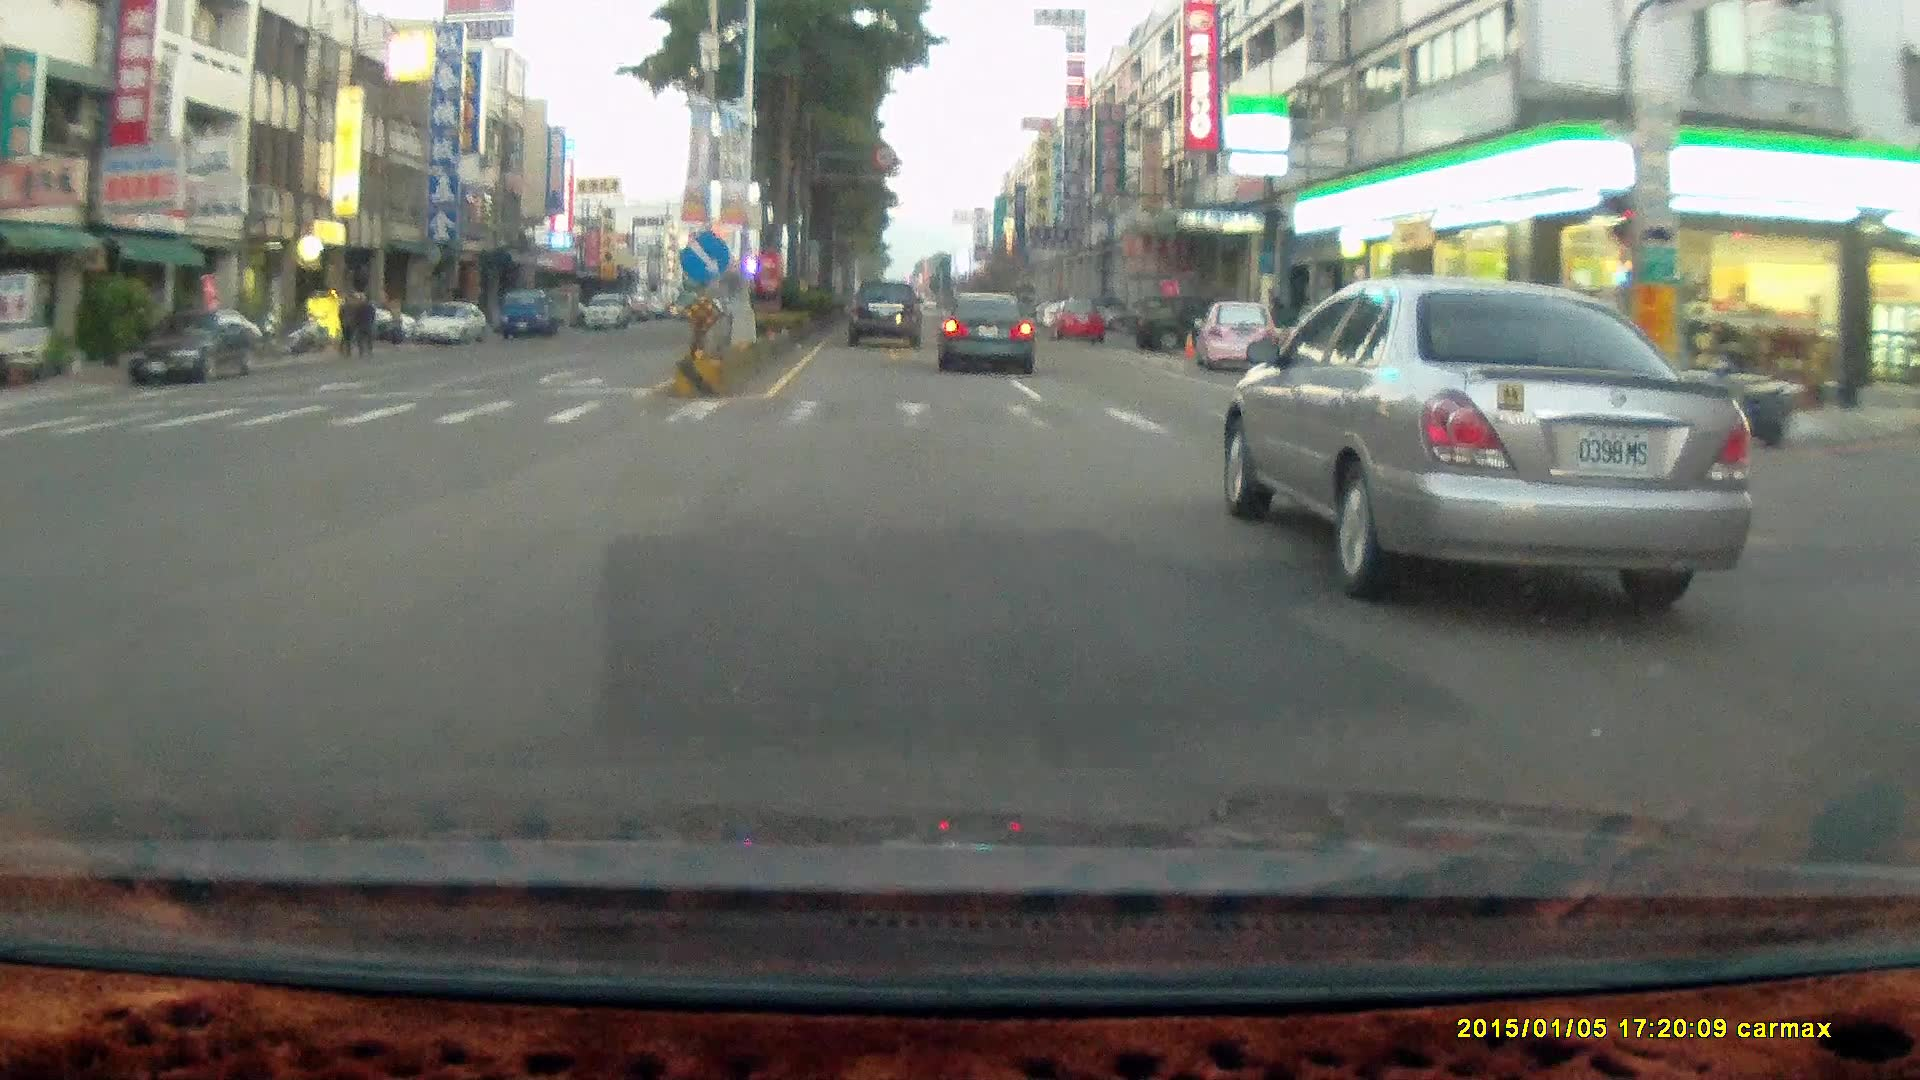pedestrian: (348, 294, 378, 360), (351, 293, 377, 361), (335, 289, 360, 358), (333, 294, 354, 360)
vehicle: (1227, 286, 1754, 626), (1414, 311, 1578, 436), (126, 314, 262, 390), (128, 306, 263, 381), (939, 292, 1036, 374), (938, 291, 1033, 371), (1197, 303, 1280, 374), (1191, 299, 1277, 368), (849, 278, 927, 351), (845, 278, 922, 348), (1128, 292, 1213, 350), (501, 294, 573, 346), (418, 302, 489, 350), (412, 300, 486, 344), (0, 324, 50, 386), (500, 288, 559, 338), (1054, 298, 1108, 343), (1049, 297, 1100, 341), (584, 292, 632, 329)
